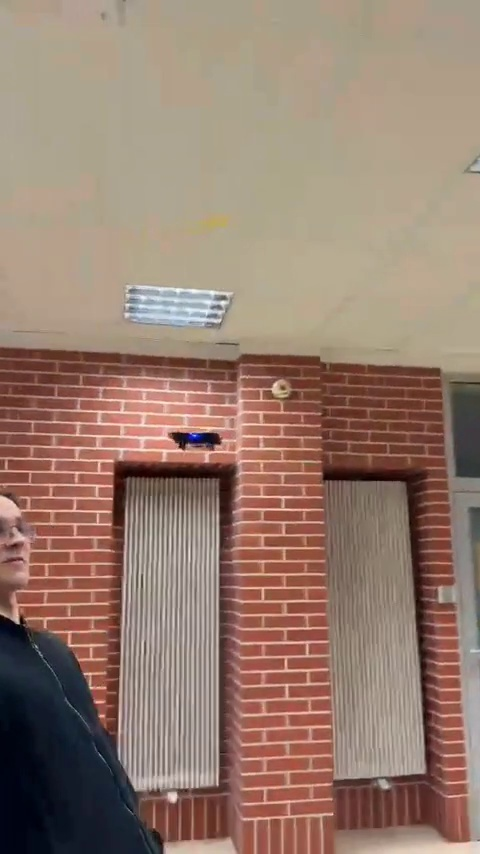drone: (168, 428, 225, 452)
no vest: (0, 490, 156, 854)
